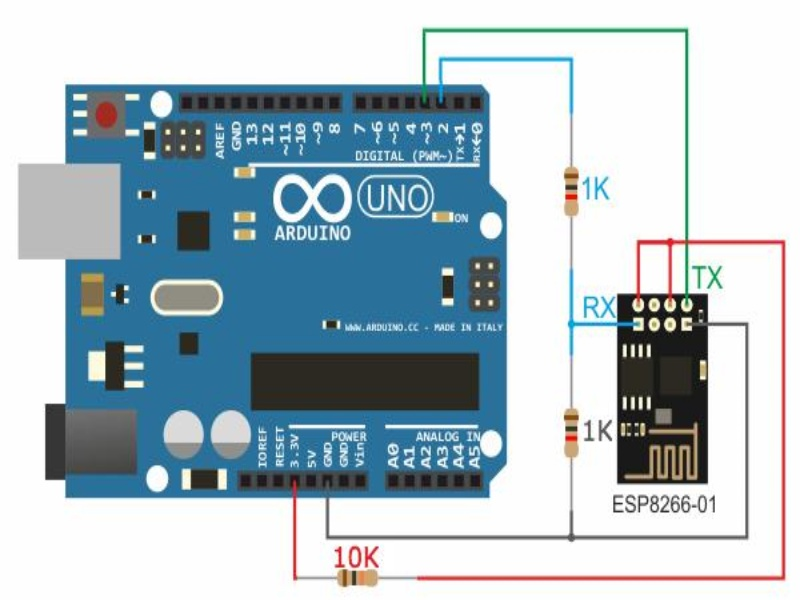uno: (33, 59, 526, 517)
